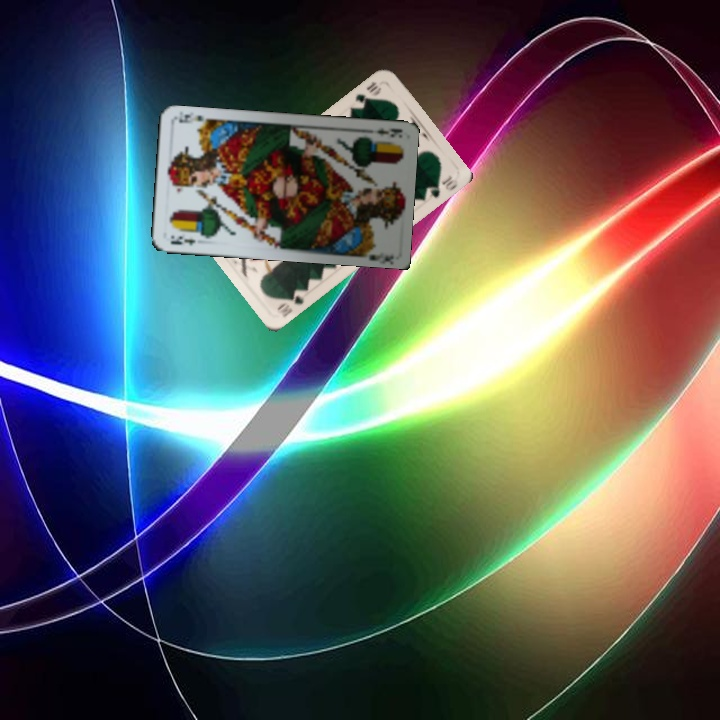EK: (166, 232, 198, 248), (373, 124, 403, 139)
G10: (273, 285, 307, 320), (351, 77, 384, 107)
